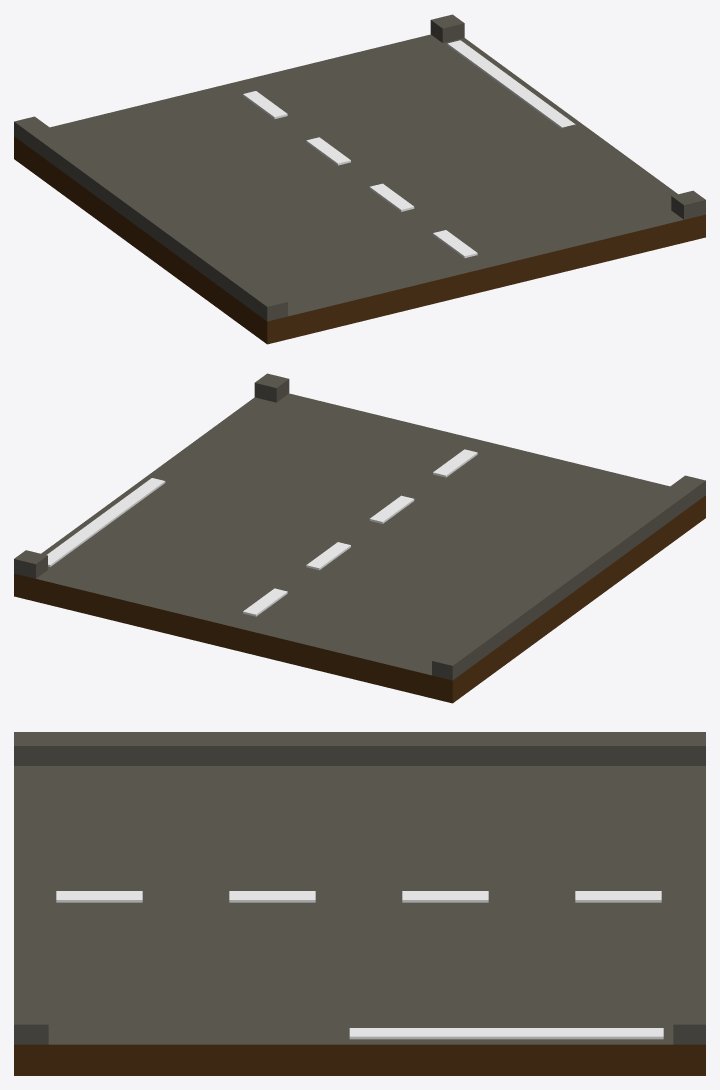
Rendered from CityRoadCrossing_02.fbx.
The picture shows the model from 3 angles, top to bottom: view 1: azimuth 30°, elevation 25°; view 2: azimuth 150°, elevation 25°; view 3: azimuth 270°, elevation 25°; orthographic projection. The views are drawn at different scales.
Parts seen in each view (by area): view 1: CityRoadCrossing_02; view 2: CityRoadCrossing_02; view 3: CityRoadCrossing_02.
Boxes of the visible parts, x1,y1,x2,y2 form: CityRoadCrossing_02: (14,14,705,344); CityRoadCrossing_02: (14,373,705,703); CityRoadCrossing_02: (14,732,705,1075).
Size of the model in its own units: 1 by 0.0818 by 1.
